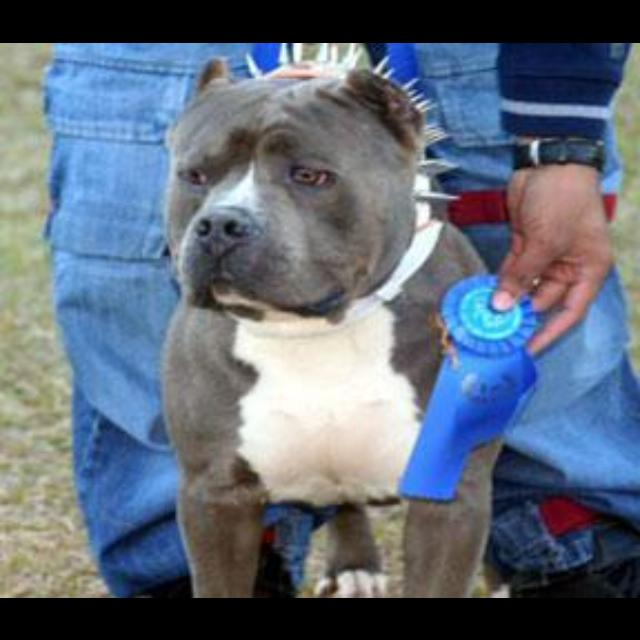amstaff: (157, 56, 503, 596)
